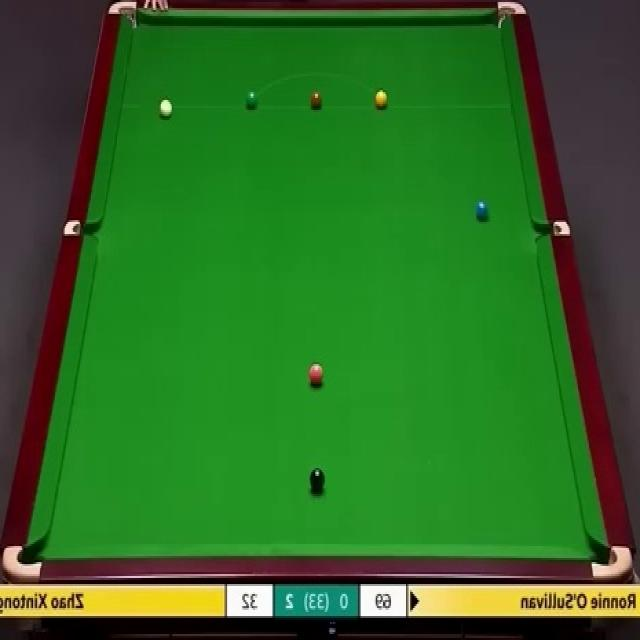black-ball: (309, 467, 325, 493)
blue-ball: (476, 200, 489, 223)
brown-ball: (310, 92, 323, 109)
green-ball: (244, 88, 258, 112)
pink-ball: (308, 362, 324, 389)
white-ball: (158, 96, 173, 120)
yellow-ball: (374, 89, 388, 110)
